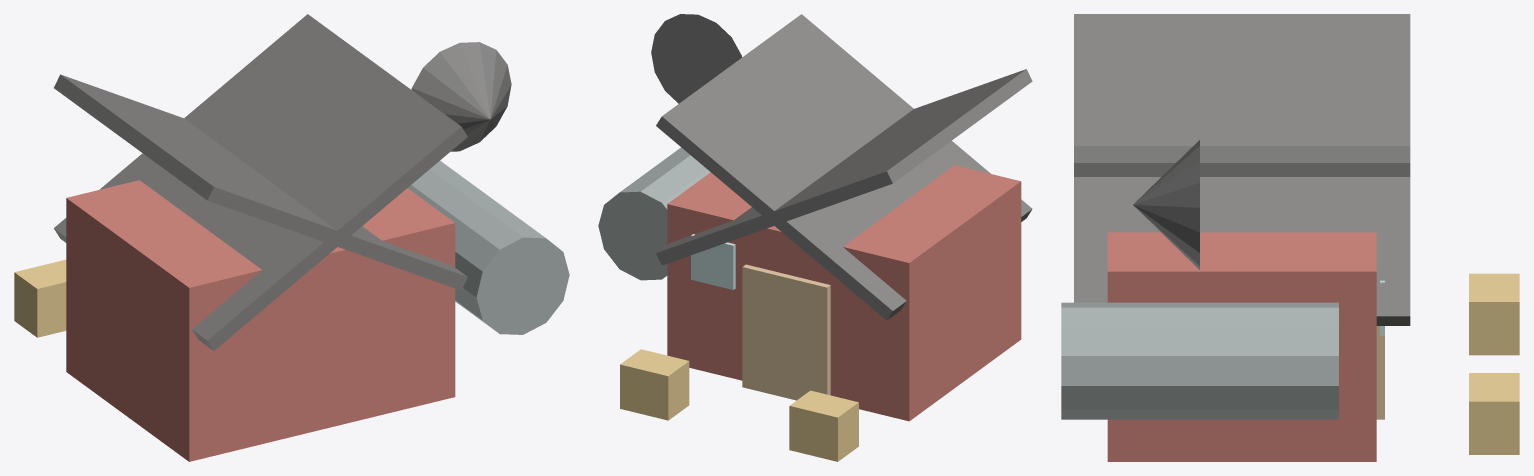
The model's file is barn.glb.
The picture shows the model from 3 angles, left to right: view 1: azimuth 30°, elevation 25°; view 2: azimuth 150°, elevation 25°; view 3: azimuth 270°, elevation 25°; orthographic projection. The views are drawn at different scales.
Visible parts, largest first — view 1: barn_red, barn_roof, barn_metal, barn_gold; view 2: barn_roof, barn_red, barn_wood, barn_gold, barn_metal, barn_glass; view 3: barn_roof, barn_red, barn_metal, barn_gold, barn_wood.
Boxes of the visible parts, x1=… form: barn_red: x1=66, y1=180, x2=455, y2=461; barn_roof: x1=54, y1=14, x2=511, y2=350; barn_metal: x1=408, y1=161, x2=569, y2=334; barn_gold: x1=14, y1=259, x2=66, y2=337; barn_roof: x1=651, y1=14, x2=1032, y2=320; barn_red: x1=667, y1=165, x2=1021, y2=421; barn_wood: x1=742, y1=264, x2=830, y2=400; barn_gold: x1=620, y1=349, x2=858, y2=461; barn_metal: x1=598, y1=147, x2=710, y2=280; barn_glass: x1=691, y1=234, x2=735, y2=289; barn_roof: x1=1074, y1=14, x2=1410, y2=325; barn_red: x1=1107, y1=232, x2=1376, y2=461; barn_metal: x1=1061, y1=302, x2=1338, y2=419; barn_gold: x1=1469, y1=273, x2=1519, y2=454; barn_wood: x1=1376, y1=326, x2=1384, y2=419.
Size of the model in its own units: 54.8 by 45.3 by 54.5.
